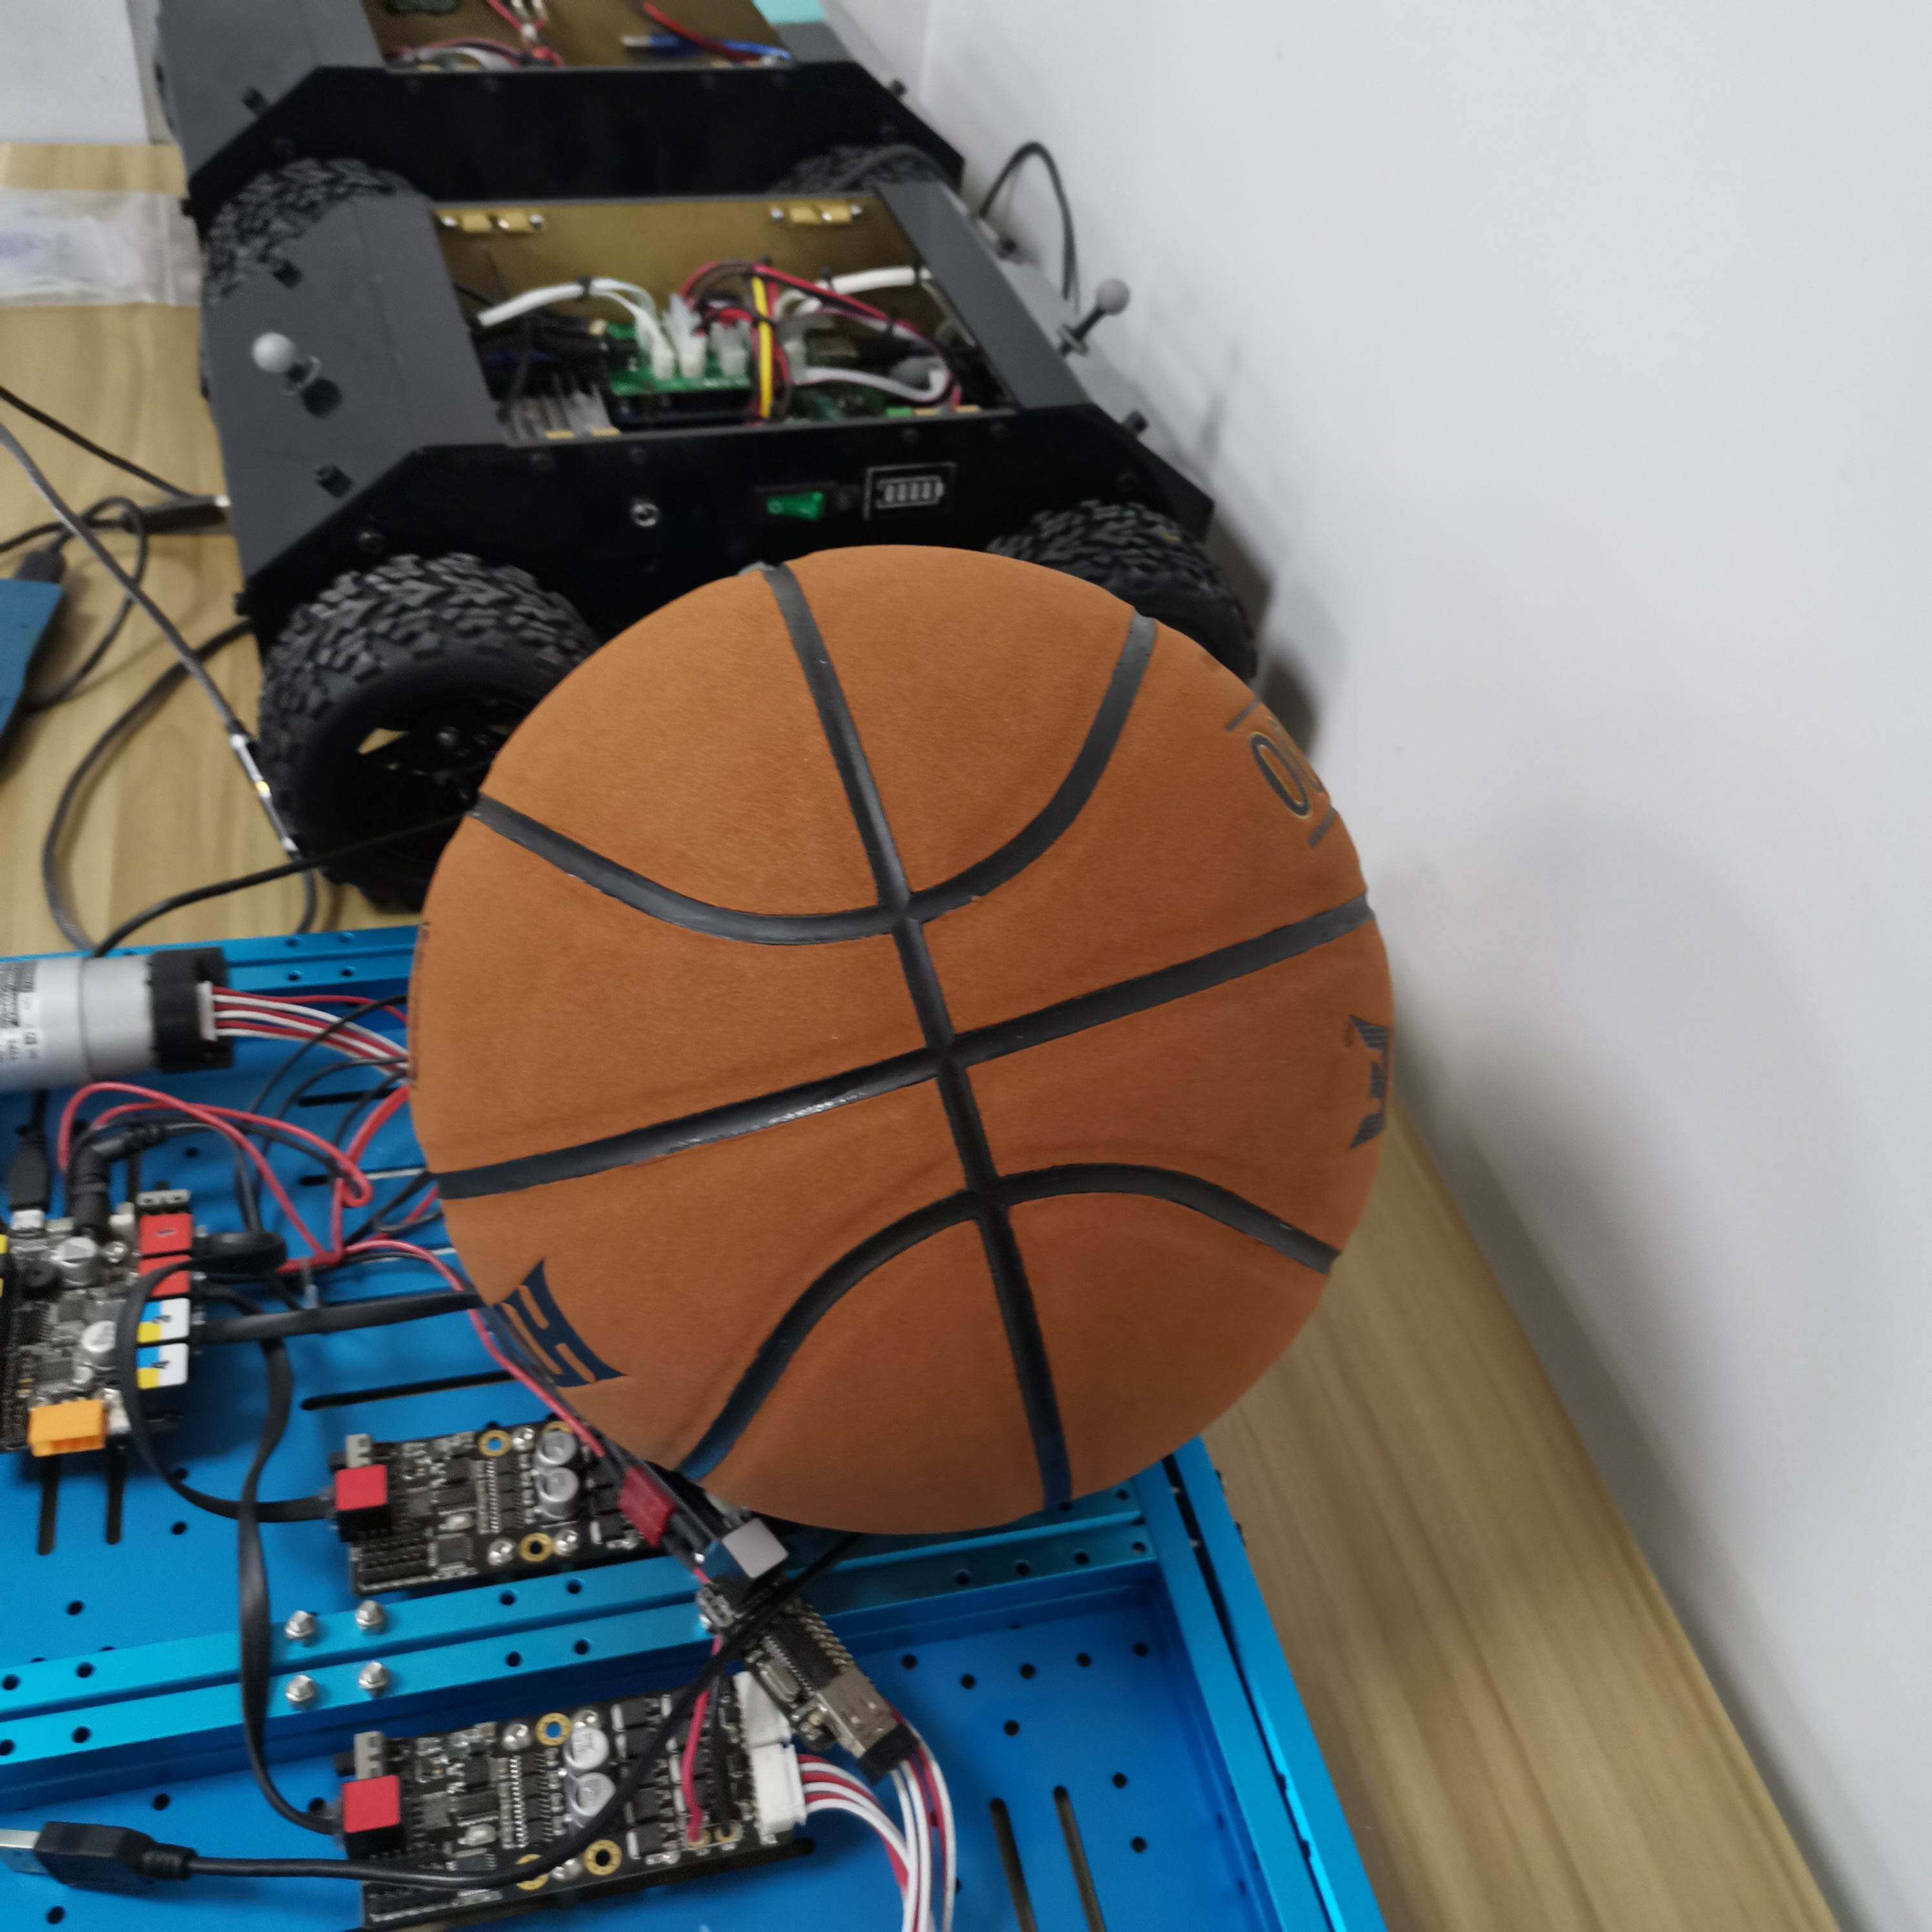basketball: (407, 550, 1398, 1546)
